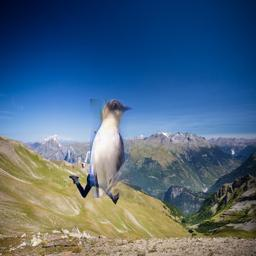Cuckoo: (90, 99, 134, 198)
